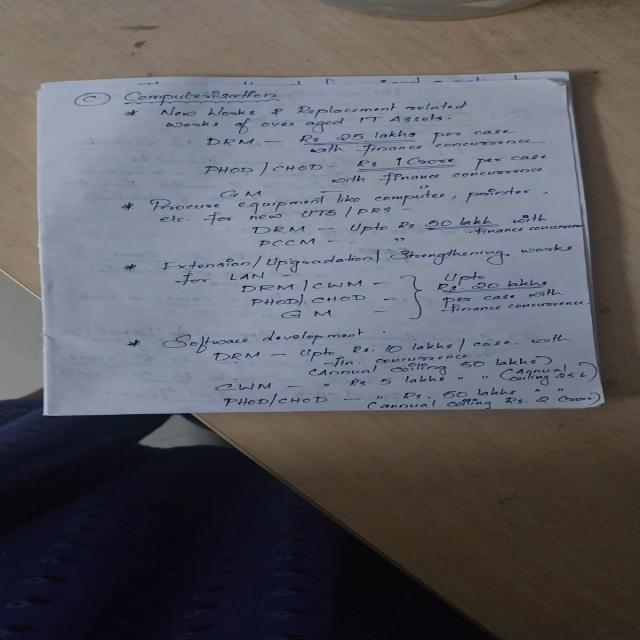Paper - Recyclable: (35, 70, 606, 416)
